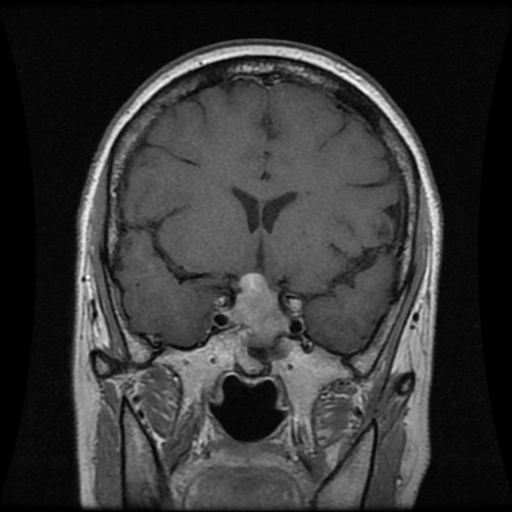pituitary: (227, 272, 289, 342)
